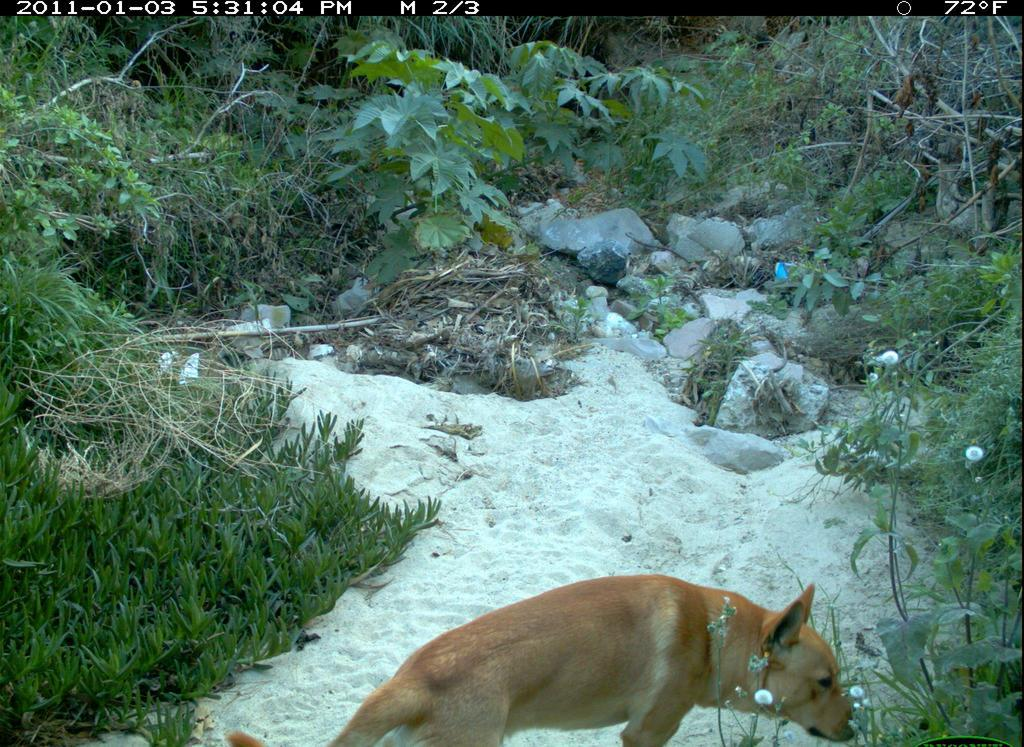dog: (227, 570, 863, 747)
